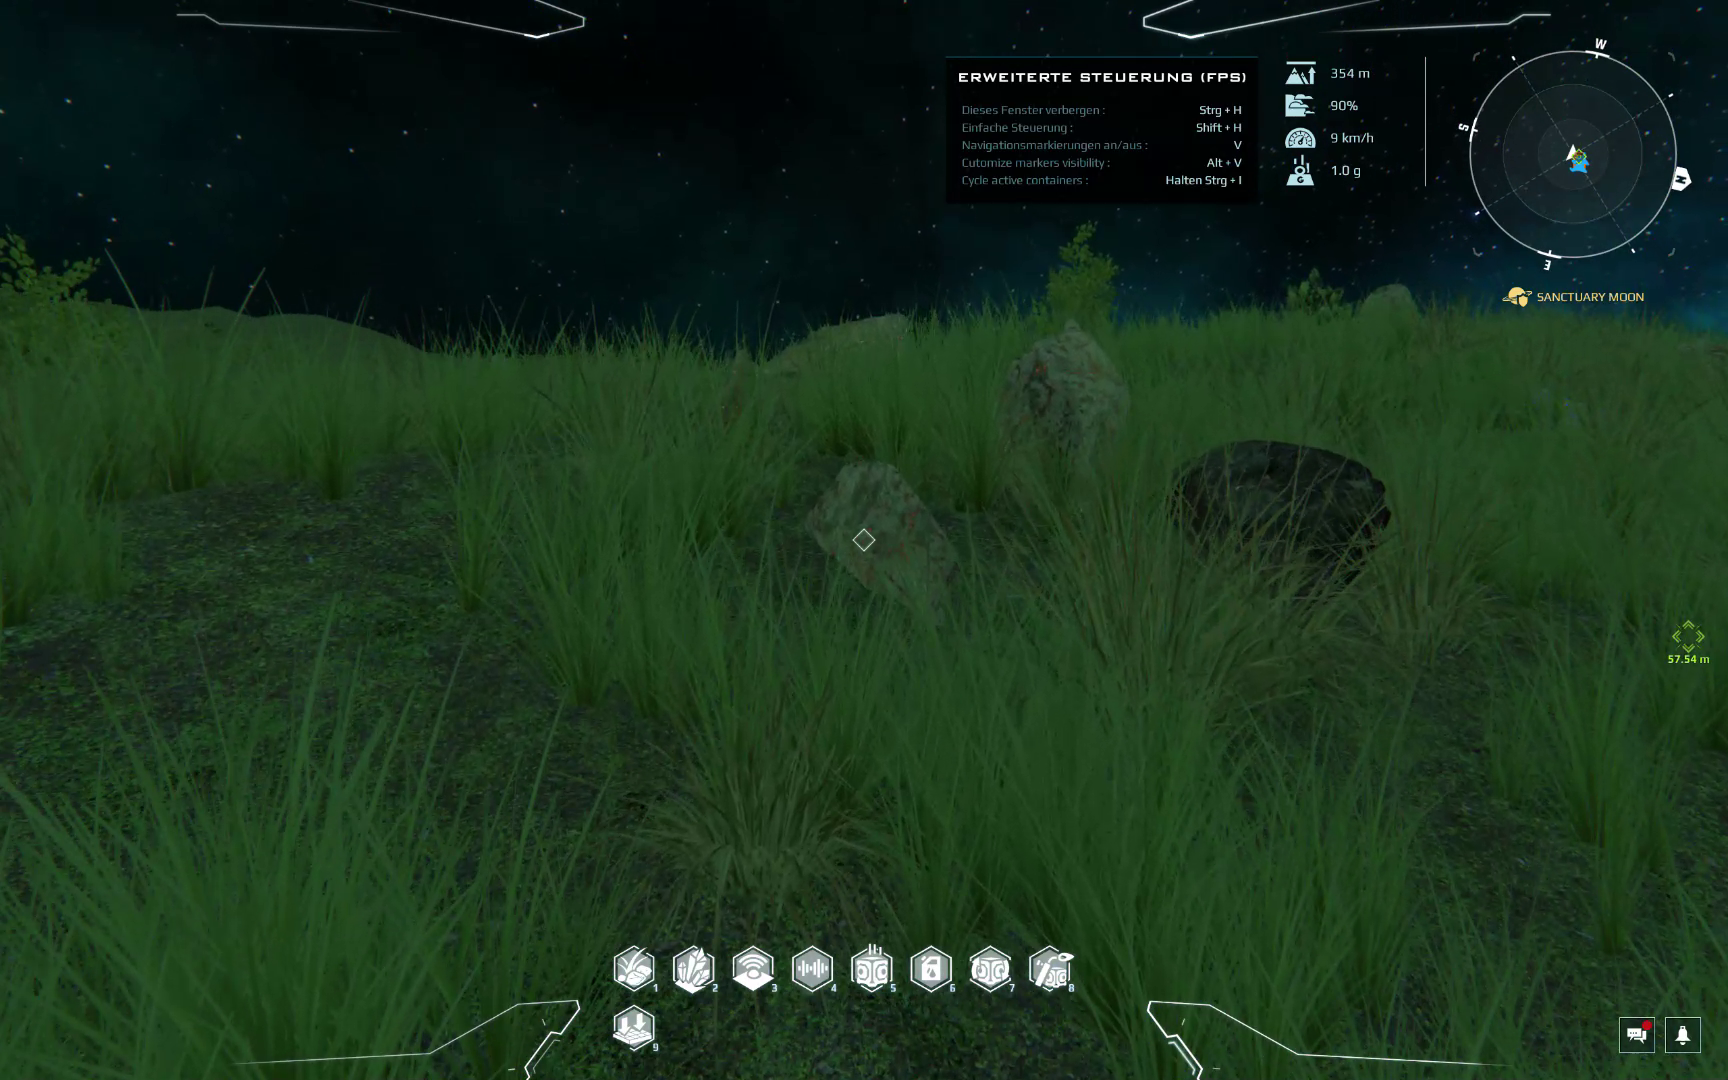Ore: (1168, 437, 1391, 608), (988, 324, 1127, 523), (812, 457, 958, 613), (774, 314, 916, 367)
